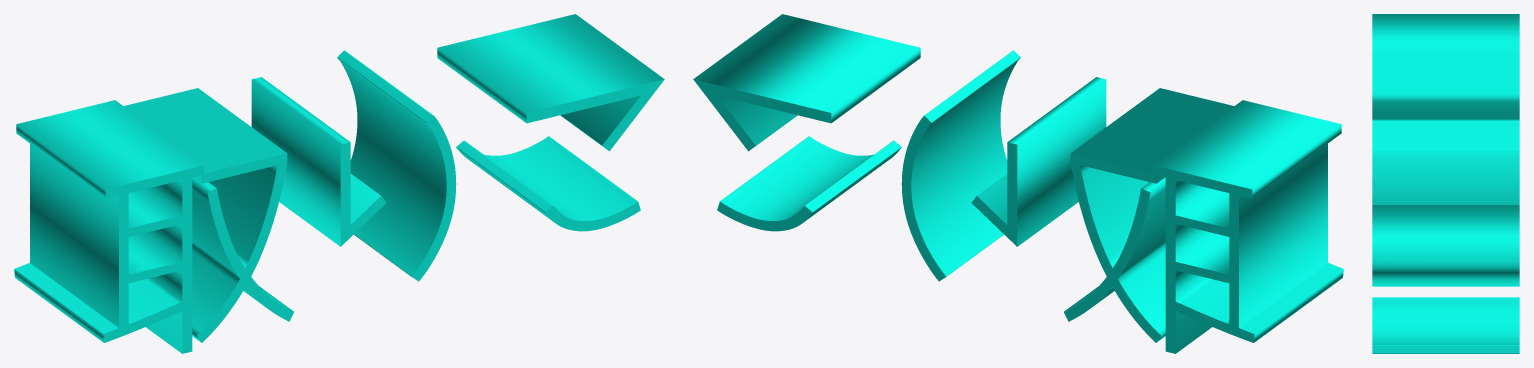
Rendered from title.obj.
3 renders of one model, left to right at view 1: azimuth 30°, elevation 25°; view 2: azimuth 150°, elevation 25°; view 3: azimuth 270°, elevation 25°, orthographic. The views are drawn at different scales.
Visible parts, largest first — view 1: default; view 2: default; view 3: default.
Boxes of the visible parts, bbox=[...] form: default: bbox=[14, 14, 664, 353]; default: bbox=[693, 14, 1343, 353]; default: bbox=[1372, 14, 1519, 353].
Bounding box in the file's own units: 2.18 × 0.6799 × 0.6.
1 material, 1 textured.
